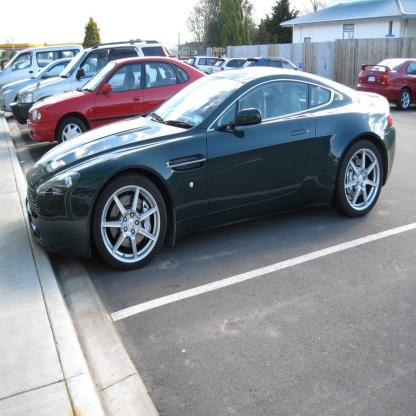Car: (1, 48, 397, 272), (358, 60, 416, 112)
